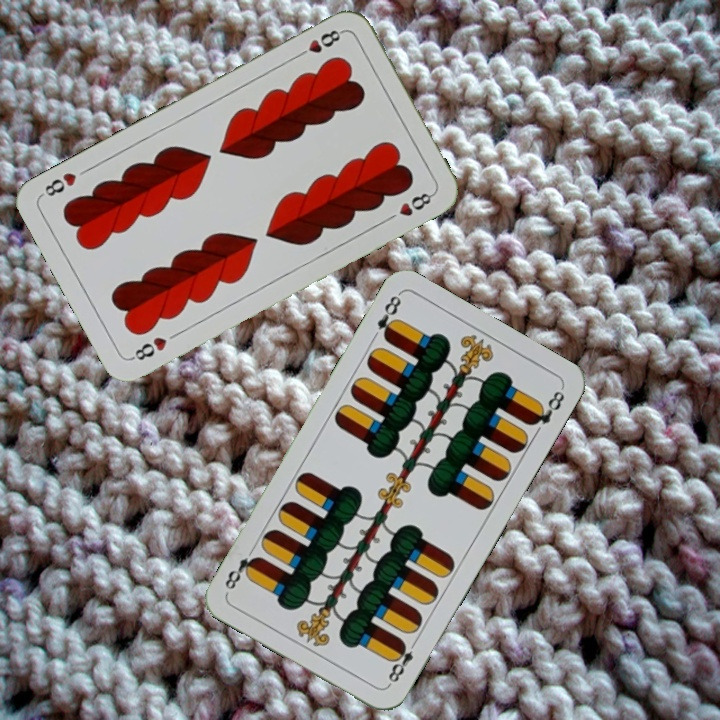E8: (383, 635, 420, 689), (373, 290, 404, 344)
H8: (292, 25, 347, 61), (127, 332, 170, 363)
